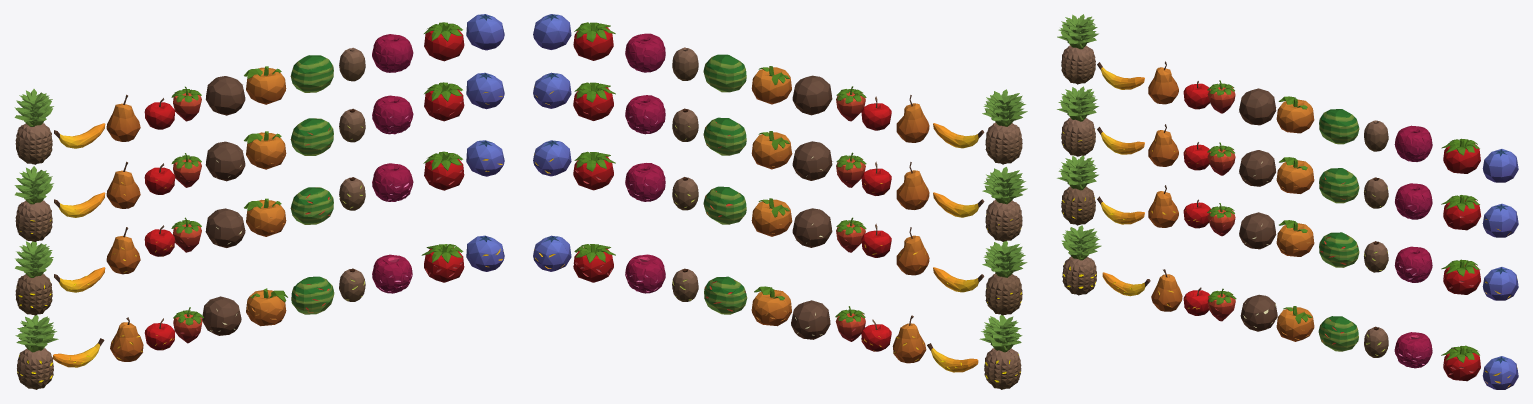
The model's file is FruitsAll.fbx.
The picture shows the model from 3 angles, left to right: view 1: azimuth 30°, elevation 25°; view 2: azimuth 150°, elevation 25°; view 3: azimuth 330°, elevation 25°; orthographic projection. The views are drawn at different scales.
Parts seen in each view (by area): view 1: PineappleS1, PineappleS3, PineappleS2, PineapplePart.002, WatermelonS1, WatermelonS3, WatermelonS2, RaspberryS2, RaspberryS3, RaspberryS1, TomatoS1, TomatoS2 (+37 smaller); view 2: PineappleS3, PineappleS1, PineappleS2, PineapplePart.005, WatermelonS1, WatermelonS3, WatermelonS2, RaspberryS1, RaspberryS3, RaspberryS2, TomatoS2, TomatoS1 (+37 smaller); view 3: PineappleS1, PineappleS3, PineappleS2, PineapplePart.002, WatermelonS2, WatermelonS3, WatermelonS1, RaspberryS2, RaspberryS3, RaspberryS1, OrangeS1, OrangeS2 (+37 smaller).
Boxes of the visible parts, x1,y1,x2,y2 form: PineappleS1: (14,89,53,164); PineappleS3: (15,241,53,315); PineappleS2: (14,166,53,241); PineapplePart.002: (17,318,58,389); WatermelonS1: (290,55,333,92); WatermelonS3: (290,187,333,224); WatermelonS2: (290,118,333,155); RaspberryS2: (372,95,413,134); RaspberryS3: (372,163,413,201); RaspberryS1: (372,34,413,72); TomatoS1: (424,22,464,61); TomatoS2: (424,82,464,121); PineappleS3: (982,241,1027,315); PineappleS1: (982,89,1027,164); PineappleS2: (982,167,1027,241); PineapplePart.005: (979,318,1020,389); WatermelonS1: (703,54,746,92); WatermelonS3: (703,186,746,224); WatermelonS2: (703,117,746,155); RaspberryS1: (625,33,665,72); RaspberryS3: (625,163,665,201); RaspberryS2: (625,95,665,134); TomatoS2: (573,82,615,120); TomatoS1: (573,22,615,60); PineappleS1: (1057,14,1098,84); PineappleS3: (1057,155,1098,225); PineappleS2: (1057,86,1098,156); PineapplePart.002: (1061,230,1096,295); WatermelonS2: (1319,168,1359,203); WatermelonS3: (1319,232,1359,267); WatermelonS1: (1319,109,1359,144); RaspberryS2: (1395,183,1432,219); RaspberryS3: (1394,246,1432,282); RaspberryS1: (1394,125,1432,161); OrangeS1: (1276,96,1314,133); OrangeS2: (1276,157,1314,193).
Size of the model in its own units: 2.03 by 23.72 by 13.63.
